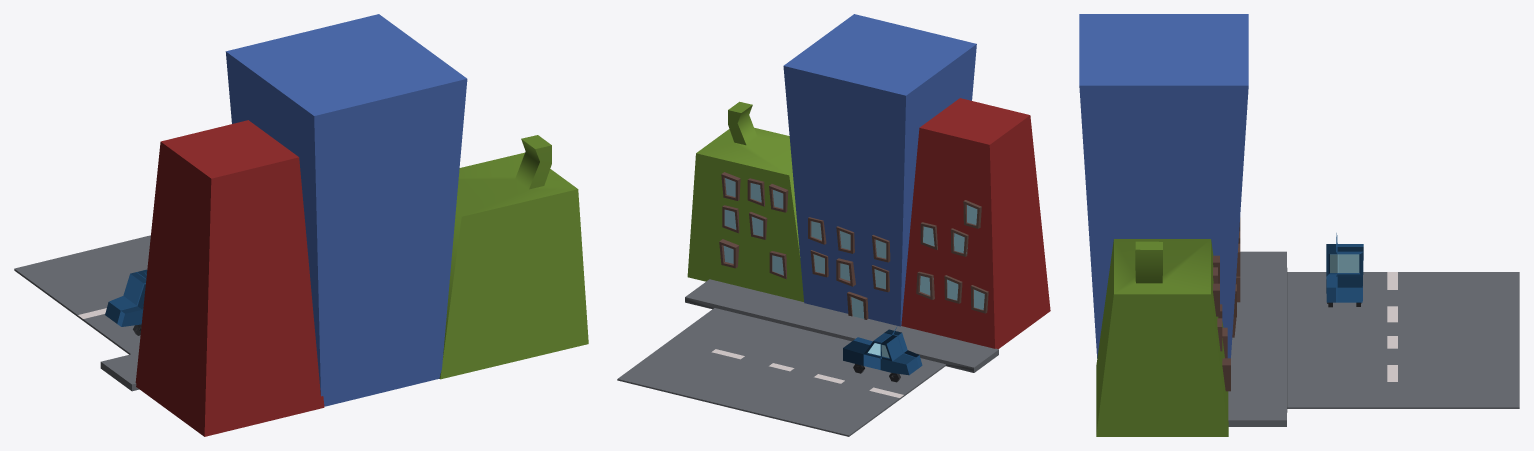
File: envionment.fbx
3 renders of one model, left to right at view 1: azimuth 30°, elevation 25°; view 2: azimuth 150°, elevation 25°; view 3: azimuth 270°, elevation 25°, orthographic. The views are drawn at different scales.
Visible parts, largest first — view 1: hausreihe, straße, auto; view 2: hausreihe, straße, auto; view 3: hausreihe, straße, auto.
Boxes of the visible parts, x1=… form: hausreihe: x1=135, y1=14, x2=588, y2=436; straße: x1=14, y1=235, x2=150, y2=391; auto: x1=105, y1=269, x2=147, y2=335; hausreihe: x1=687, y1=14, x2=1050, y2=348; straße: x1=617, y1=279, x2=998, y2=436; auto: x1=843, y1=326, x2=922, y2=382; hausreihe: x1=1079, y1=14, x2=1248, y2=436; straße: x1=1228, y1=251, x2=1519, y2=426; auto: x1=1326, y1=233, x2=1363, y2=307.
Bounding box in the file's own units: 648 × 495 × 664.
